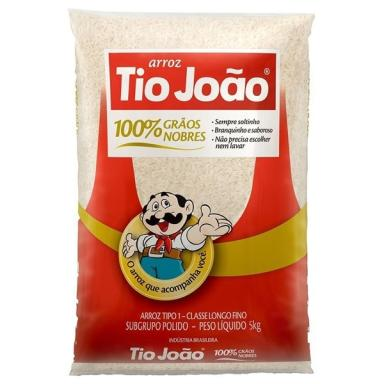rice package: (70, 11, 312, 374)
